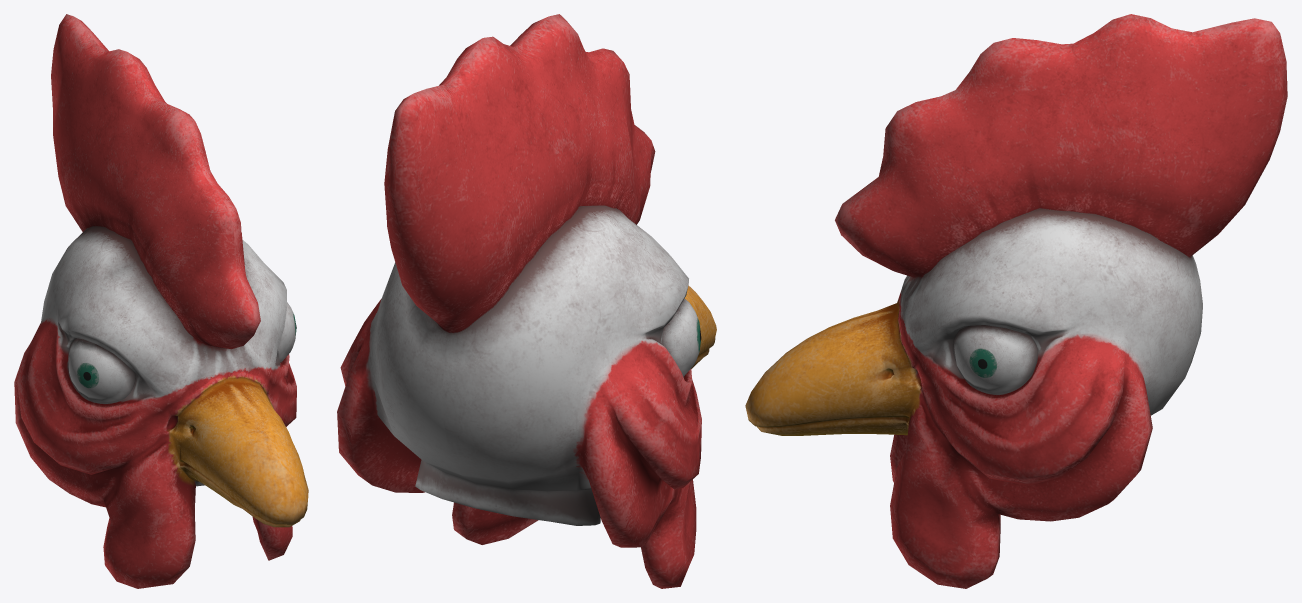
The model's file is chicken_hat.glb.
3 renders of one model, left to right at view 1: azimuth 30°, elevation 25°; view 2: azimuth 150°, elevation 25°; view 3: azimuth 270°, elevation 25°, orthographic. The views are drawn at different scales.
Visible parts, largest first — view 1: ChickenHead_low; view 2: ChickenHead_low; view 3: ChickenHead_low.
Boxes of the visible parts, <box> form: ChickenHead_low: <box>14,14,308,588</box>; ChickenHead_low: <box>337,14,716,588</box>; ChickenHead_low: <box>745,14,1287,588</box>.
Bounding box in the file's own units: 0.3521 × 0.6102 × 0.5621.
1 material, 1 textured.
